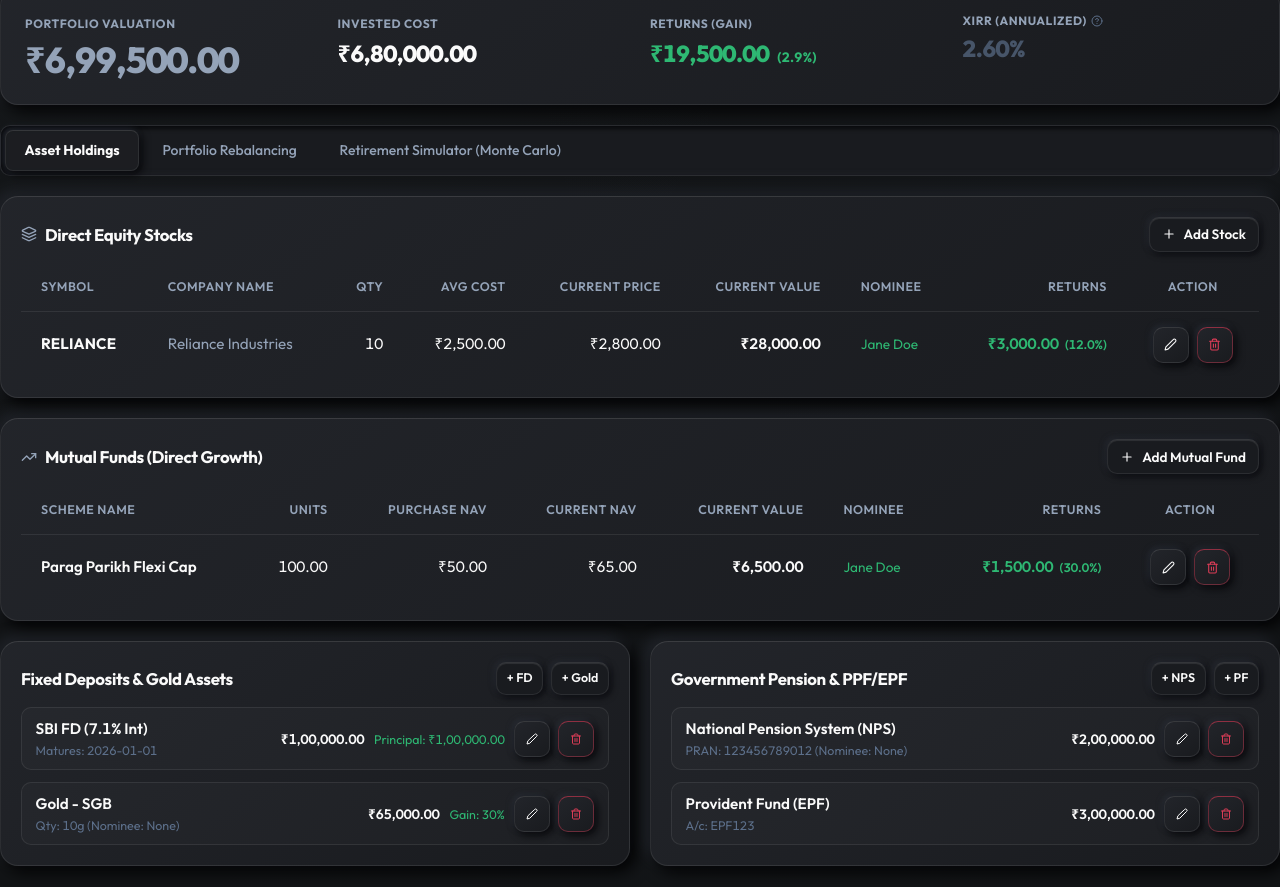
Test case: InvestmentsView Component Diagnostics › switches between tabs: Holdings, Rebalancing, Simulator
// Switch to Rebalancing tab
Click the tab "Portfolio Rebalancing".
click(230, 150)  # box x1=143 y1=130 x2=316 y2=171
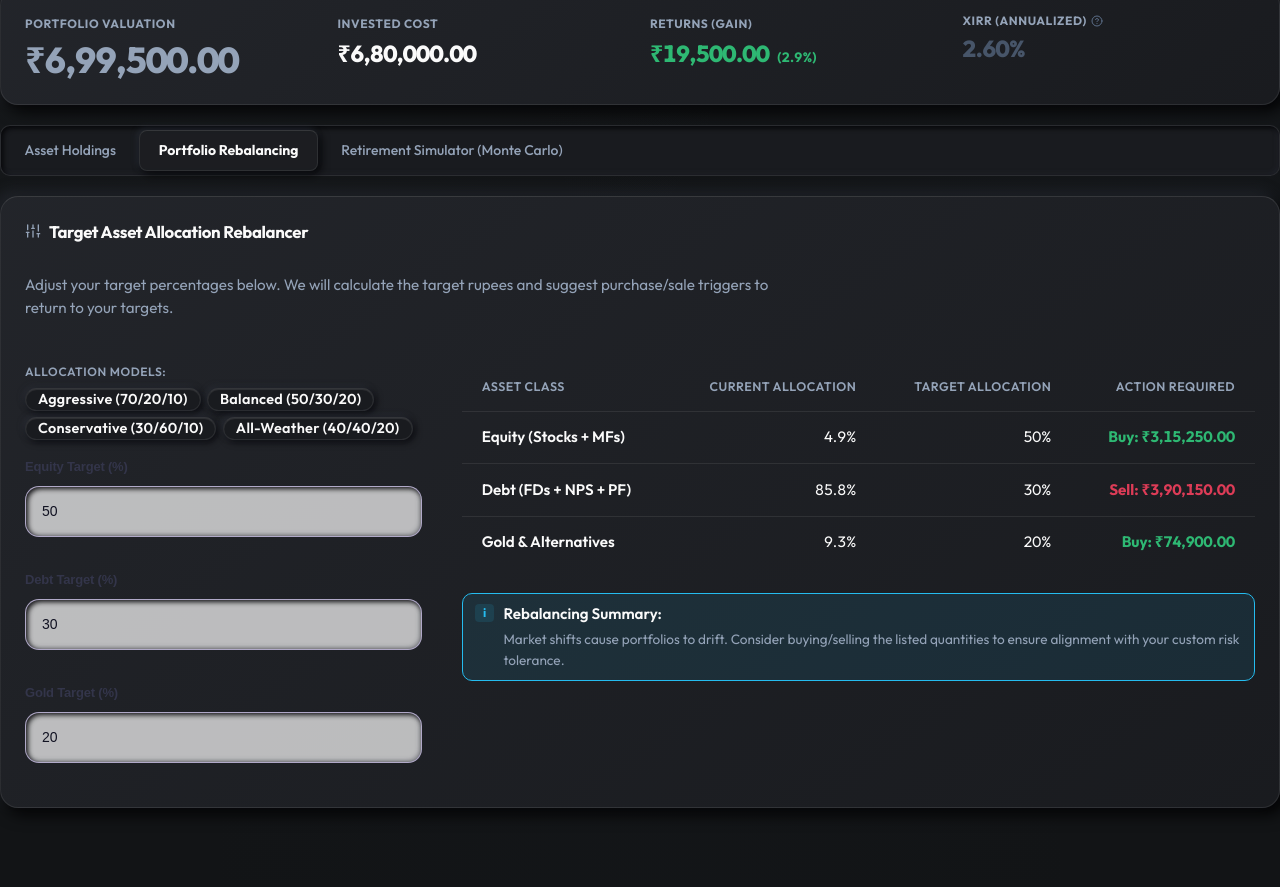
Expected: the heading "Target Asset Allocation Rebalancer" is shown, x1=49 y1=221 x2=308 y2=242
// Switch to Simulator tab
Click the tab "Retirement Simulator (Monte Carlo)".
click(452, 150)  # box x1=322 y1=130 x2=582 y2=171
(page scrolled)
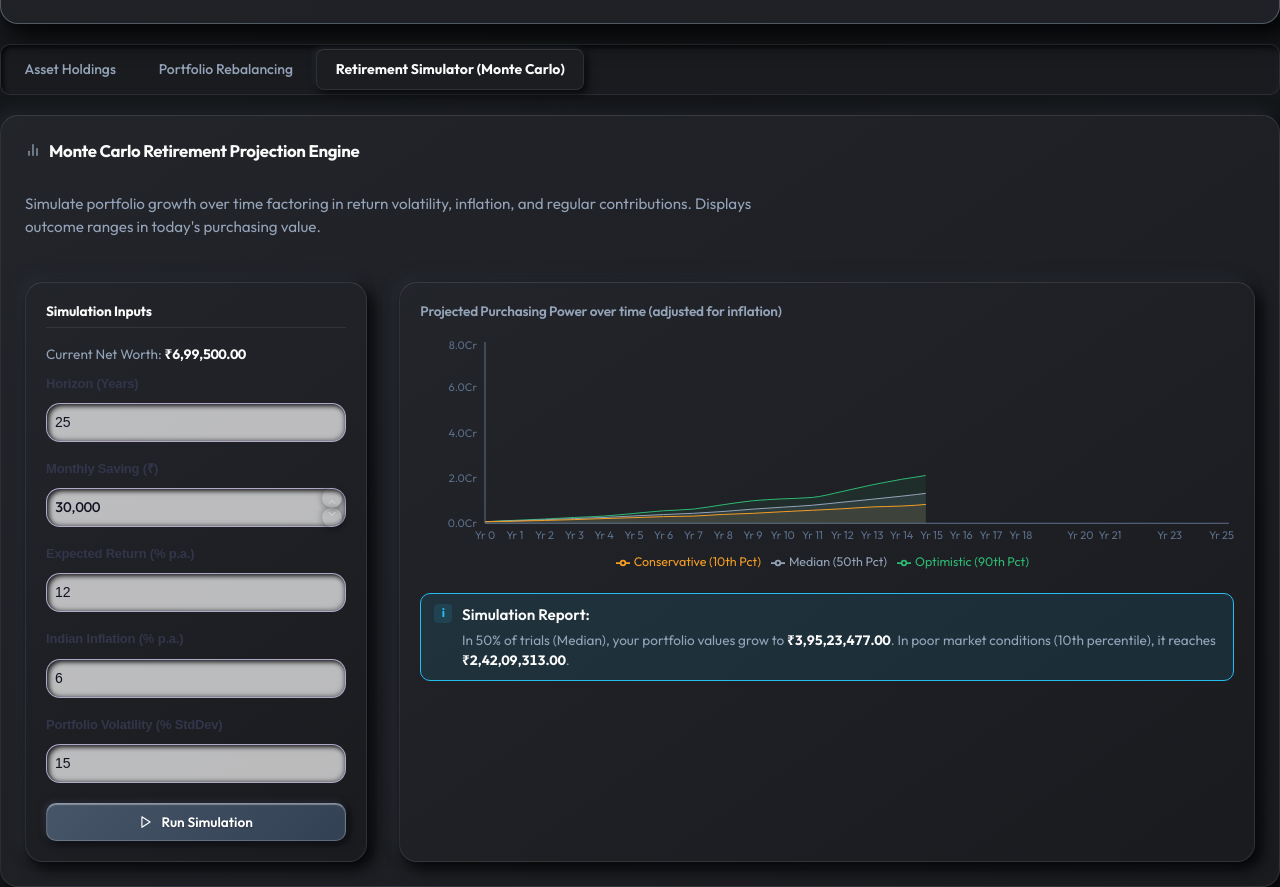
Expected: the heading "Monte Carlo Retirement Projection Engine" is shown, x1=49 y1=140 x2=359 y2=161
Expected: the button "Run Simulation" is shown, x1=46 y1=803 x2=346 y2=841
